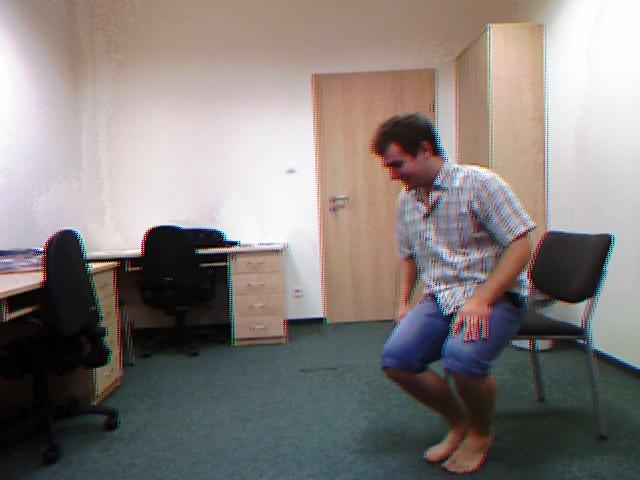near-fall: (352, 90, 539, 480)
